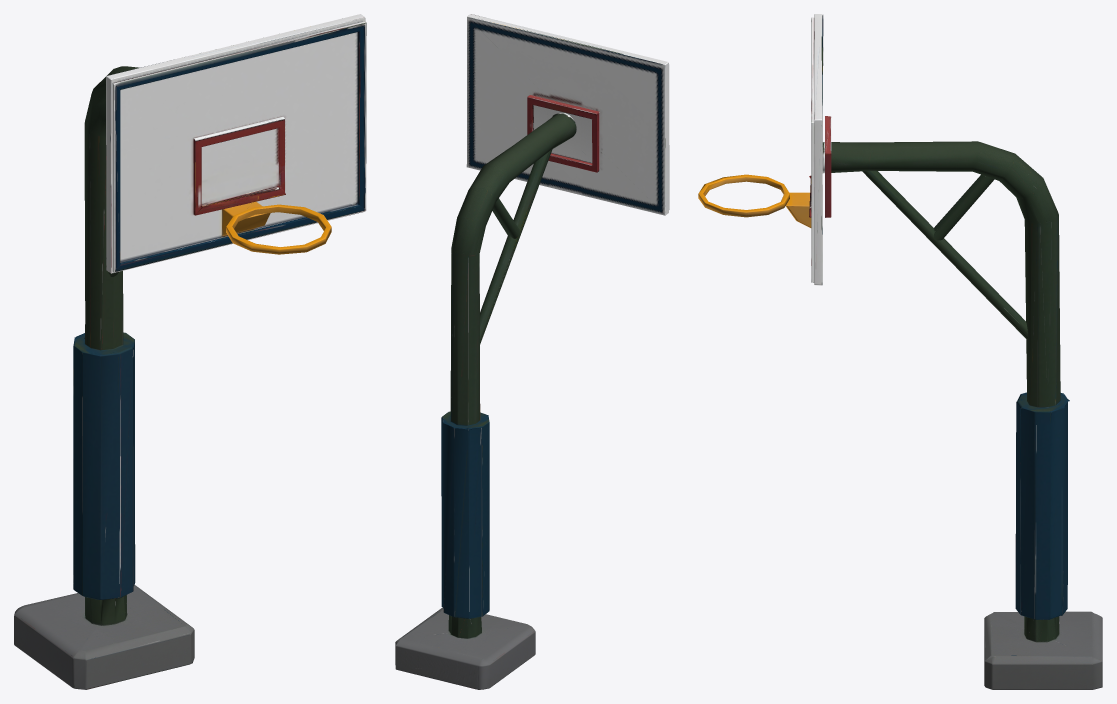
Rendered from basketball-hoop.glb.
3 views of the same model, side by side, from view 1: azimuth 30°, elevation 25°; view 2: azimuth 150°, elevation 25°; view 3: azimuth 270°, elevation 25° (orthographic). The views are drawn at different scales.
Size of the model in its own units: 0.3628 by 0.9512 by 0.5825.
1 material, 1 textured.
